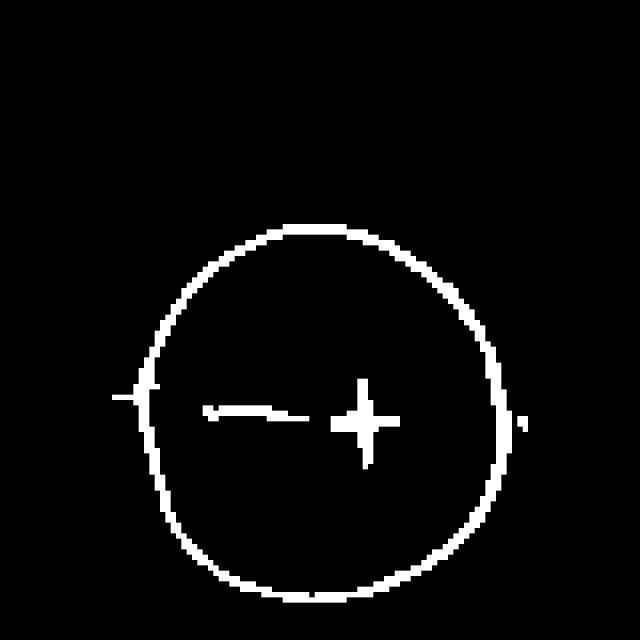voltage_source: (137, 218, 518, 616)
